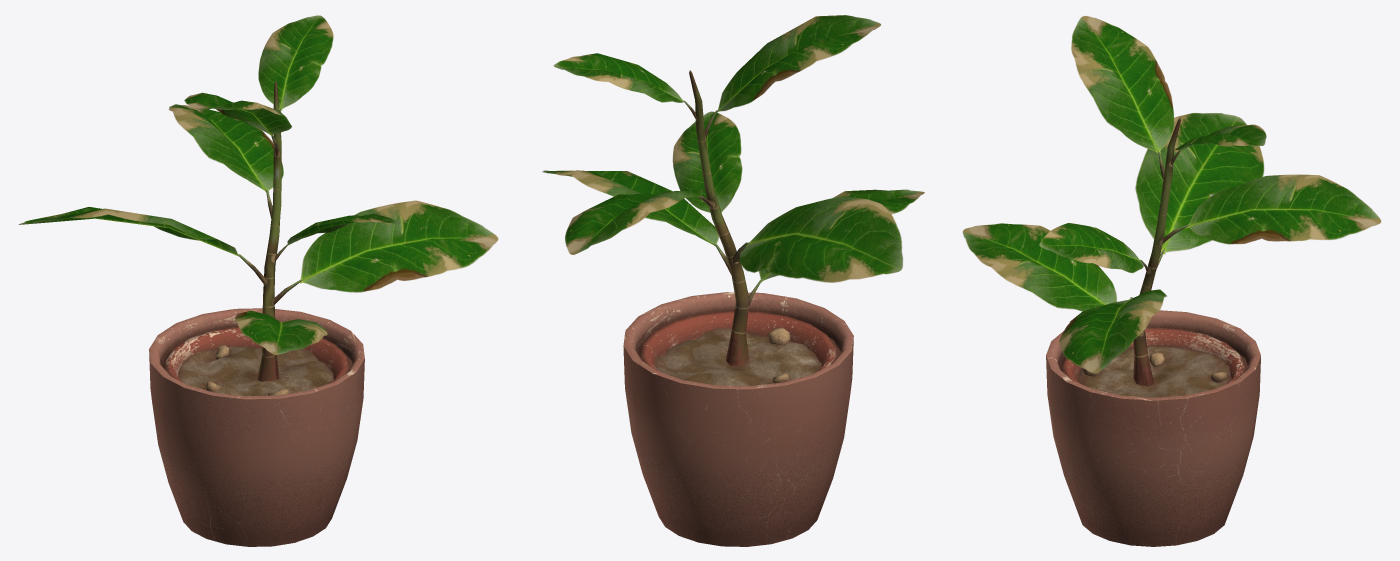
The model's file is plant_ficus.glb.
The picture shows the model from 3 angles, left to right: view 1: azimuth 30°, elevation 25°; view 2: azimuth 150°, elevation 25°; view 3: azimuth 270°, elevation 25°; orthographic projection. The views are drawn at different scales.
Visible parts, largest first — view 1: Ficus_w; view 2: Ficus_w; view 3: Ficus_w.
Part boxes in pixels (x1,y1,x2,y2): Ficus_w: (19, 15, 498, 546); Ficus_w: (542, 15, 924, 546); Ficus_w: (962, 16, 1381, 546).
Size of the model in its own units: 1.43 by 1.5 by 1.29.
Materials: 1 (1 with a texture image).
